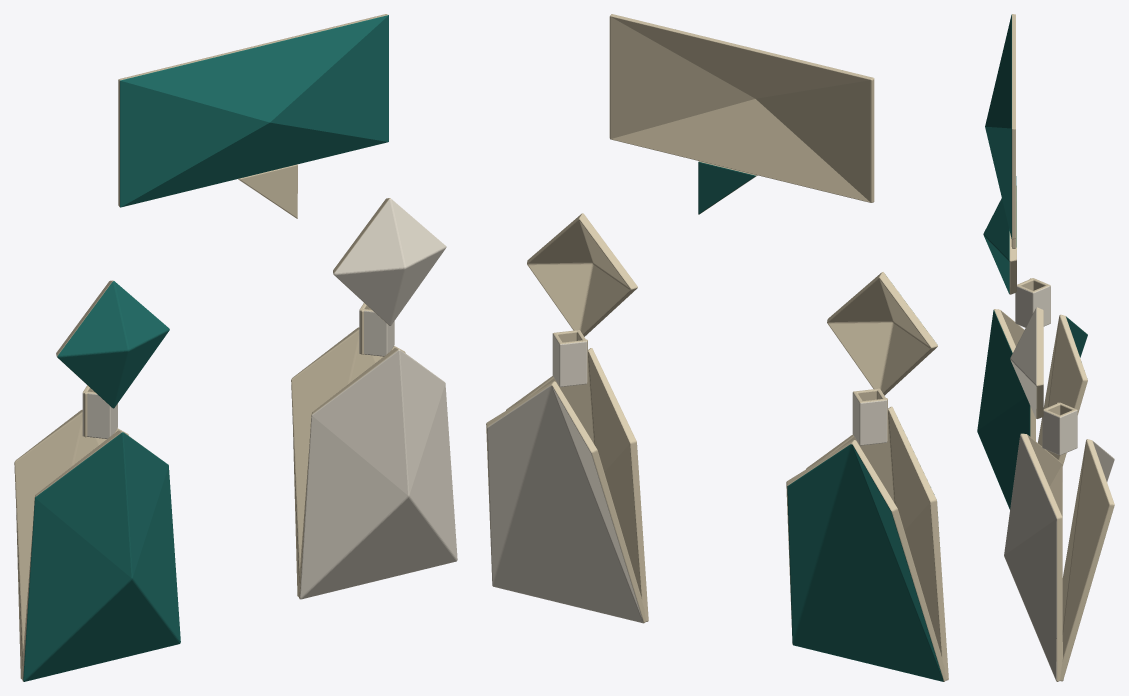
The model's file is achievement-comments.glb.
3 views of the same model, side by side, from view 1: azimuth 30°, elevation 25°; view 2: azimuth 150°, elevation 25°; view 3: azimuth 270°, elevation 25° (orthographic). The views are drawn at different scales.
Parts seen in each view (by area): view 1: achievement-comments; view 2: achievement-comments; view 3: achievement-comments.
Part boxes in pixels (bbox=[...]): achievement-comments: bbox=[14, 14, 457, 681]; achievement-comments: bbox=[486, 14, 948, 681]; achievement-comments: bbox=[977, 14, 1114, 681].
Size of the model in its own units: 1.19 by 1.48 by 0.3593.
